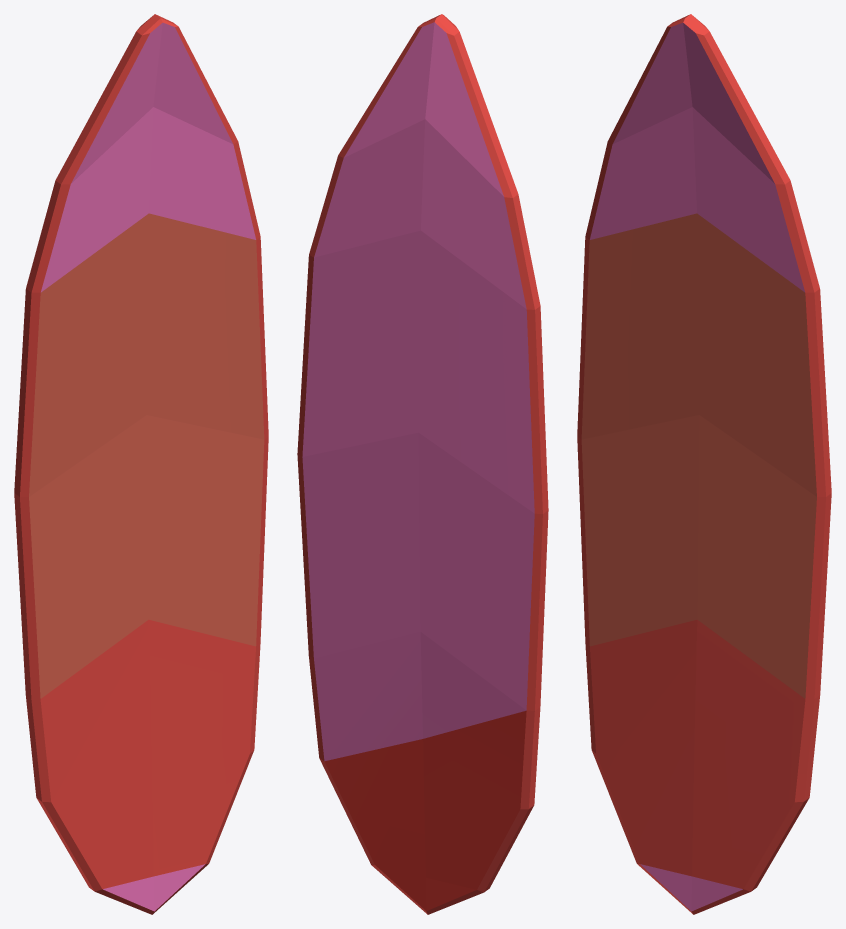
File: Surf_board_03.fbx
The picture shows the model from 3 angles, left to right: view 1: azimuth 30°, elevation 25°; view 2: azimuth 150°, elevation 25°; view 3: azimuth 330°, elevation 25°; orthographic projection.
Visible parts, largest first — view 1: Surf_board_03; view 2: Surf_board_03; view 3: Surf_board_03.
Part boxes in pixels (x1=…): Surf_board_03: x1=14, y1=14, x2=268, y2=914; Surf_board_03: x1=297, y1=14, x2=548, y2=914; Surf_board_03: x1=577, y1=14, x2=831, y2=914.
Bounding box in the file's own units: 69.03 × 239 × 12.39.
